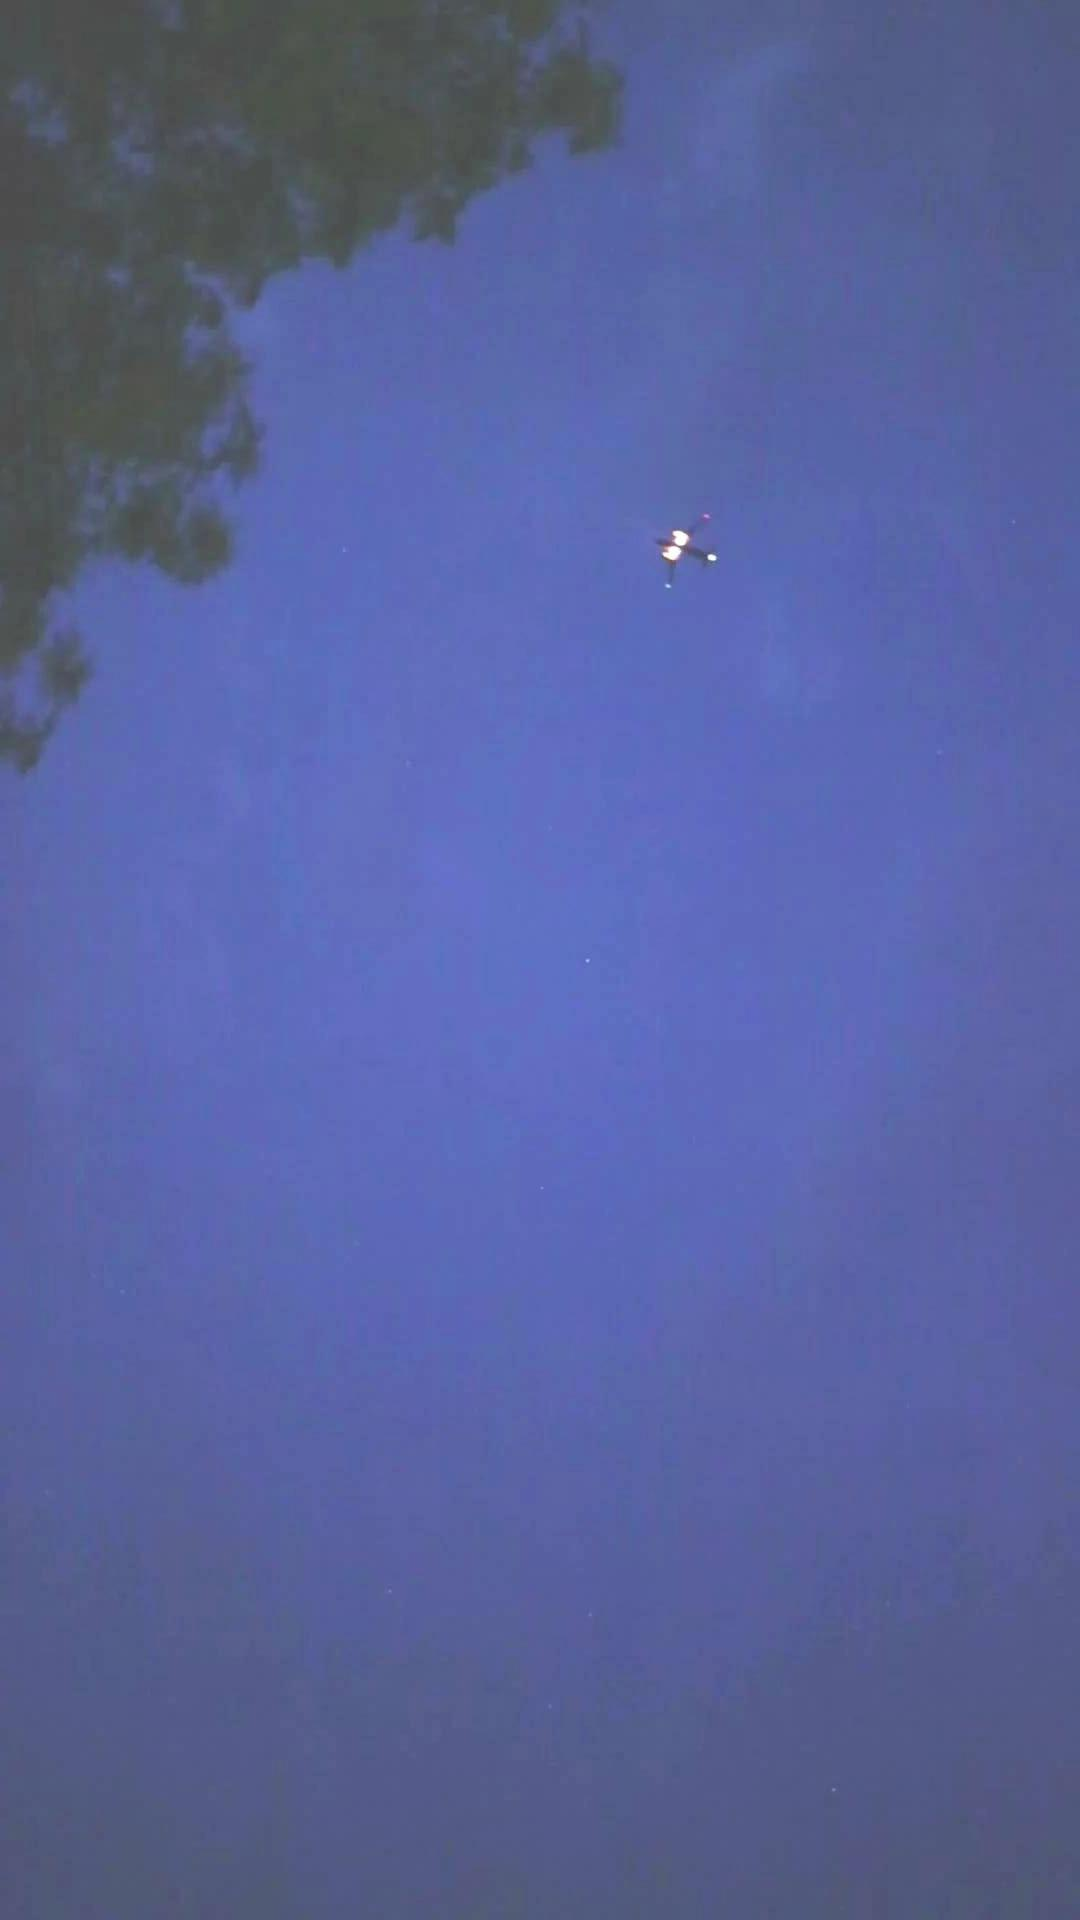Plane: (636, 492, 735, 603)
